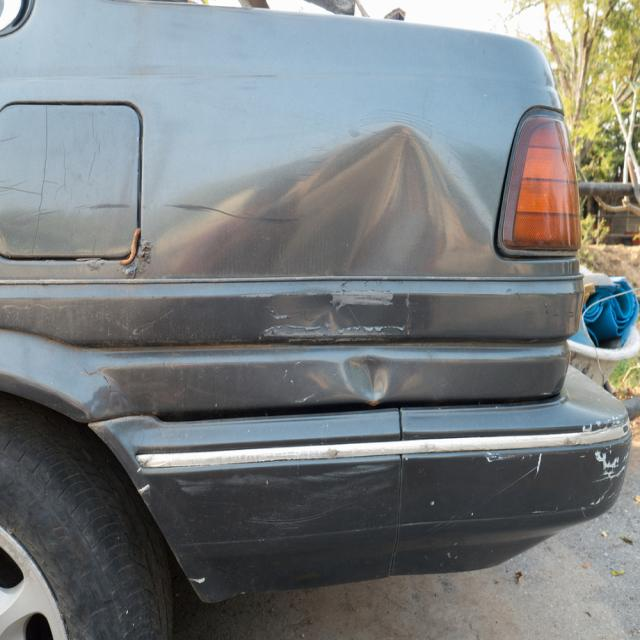Cabossage: (186, 110, 498, 283), (334, 332, 407, 405)
Rayure: (473, 404, 635, 523), (187, 457, 399, 547), (85, 189, 315, 226), (261, 291, 415, 337), (277, 354, 321, 408)
